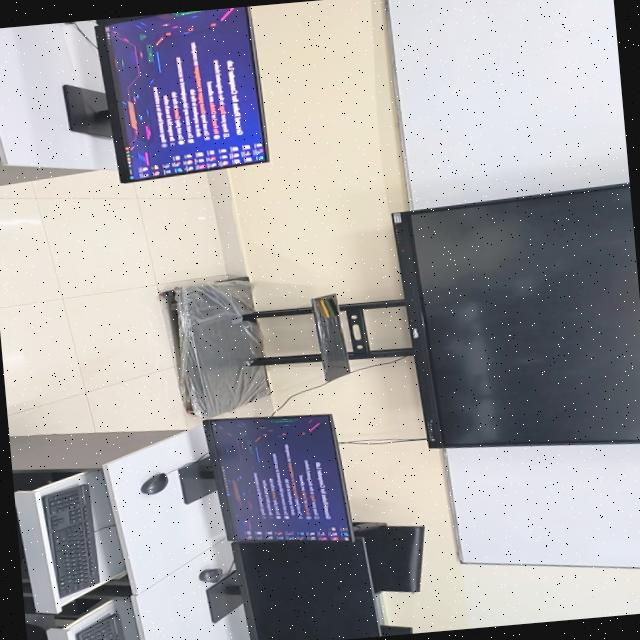Chair: (354, 521, 424, 592), (382, 624, 413, 636)
Digital board: (393, 181, 640, 447)
Keyboard: (41, 483, 100, 597), (76, 612, 125, 640)
Monitor: (95, 5, 269, 181), (204, 413, 352, 540), (232, 536, 380, 640)
Mouse: (140, 472, 168, 493), (199, 567, 222, 581)
